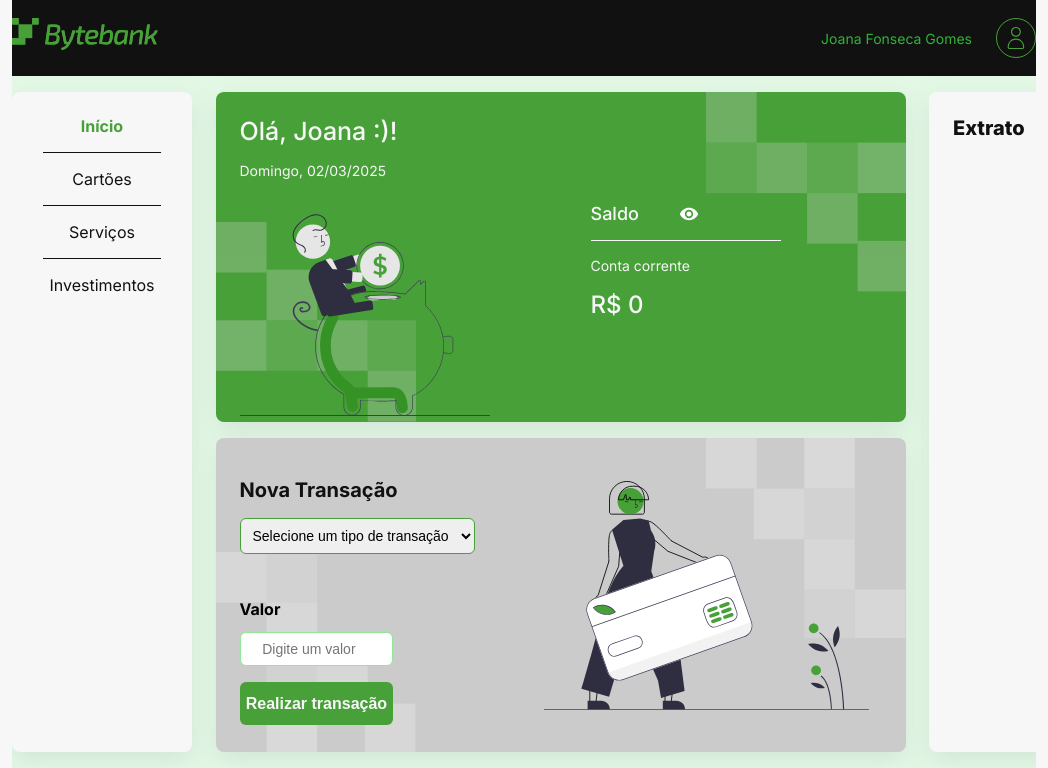
Deve navegar até a página correspondente ao link clicado
The image size is (1048, 768).
Click the link "Investimentos".
click(102, 285)  # box [50, 275, 154, 295]
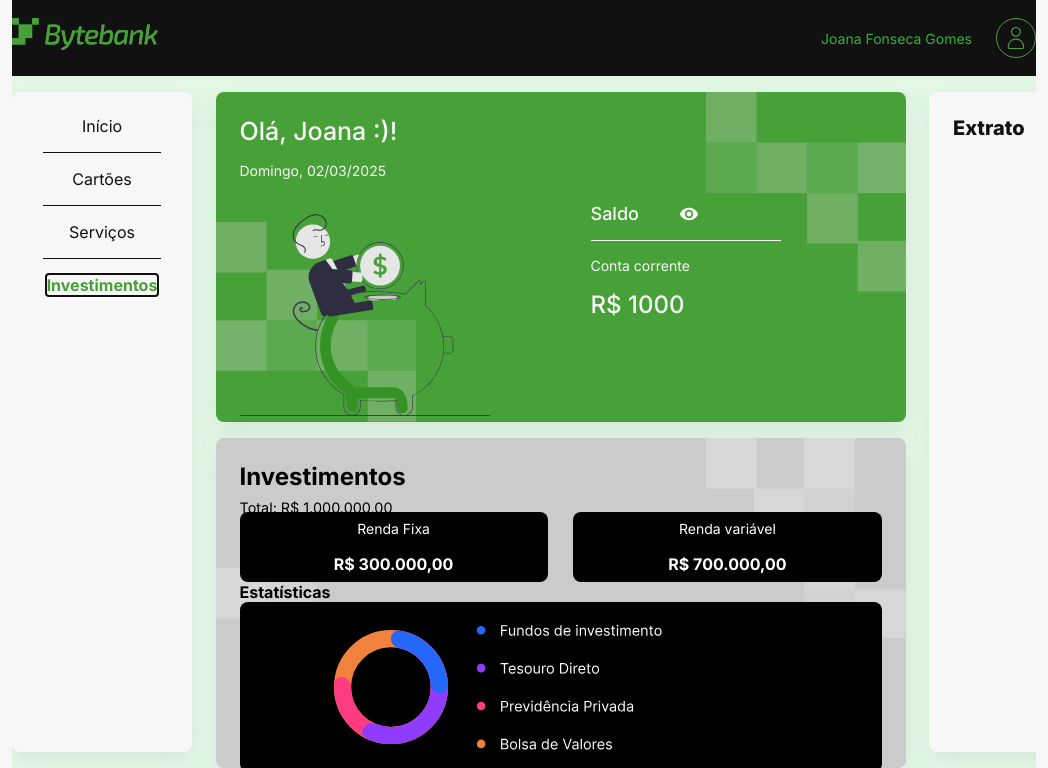
Result: the text "Renda Fixa" is shown at [357, 520, 430, 537]
